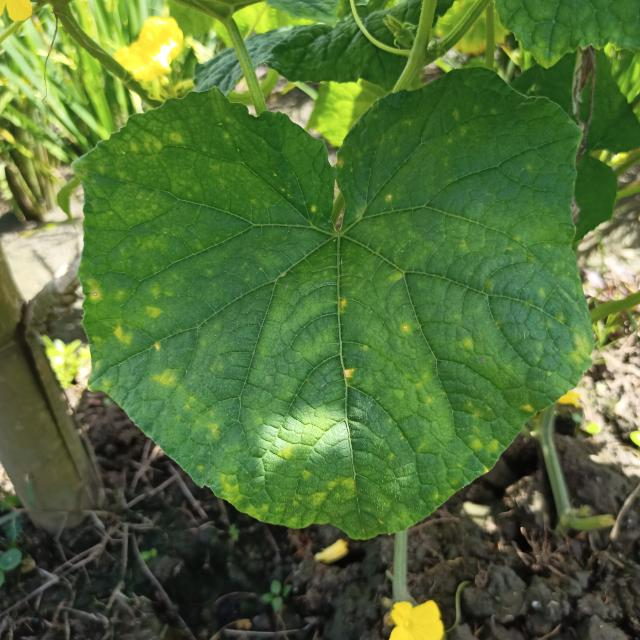disease_cucumber: (81, 125, 237, 447), (240, 358, 506, 534), (551, 303, 603, 379), (464, 337, 483, 349), (400, 321, 414, 334), (337, 295, 349, 309)
